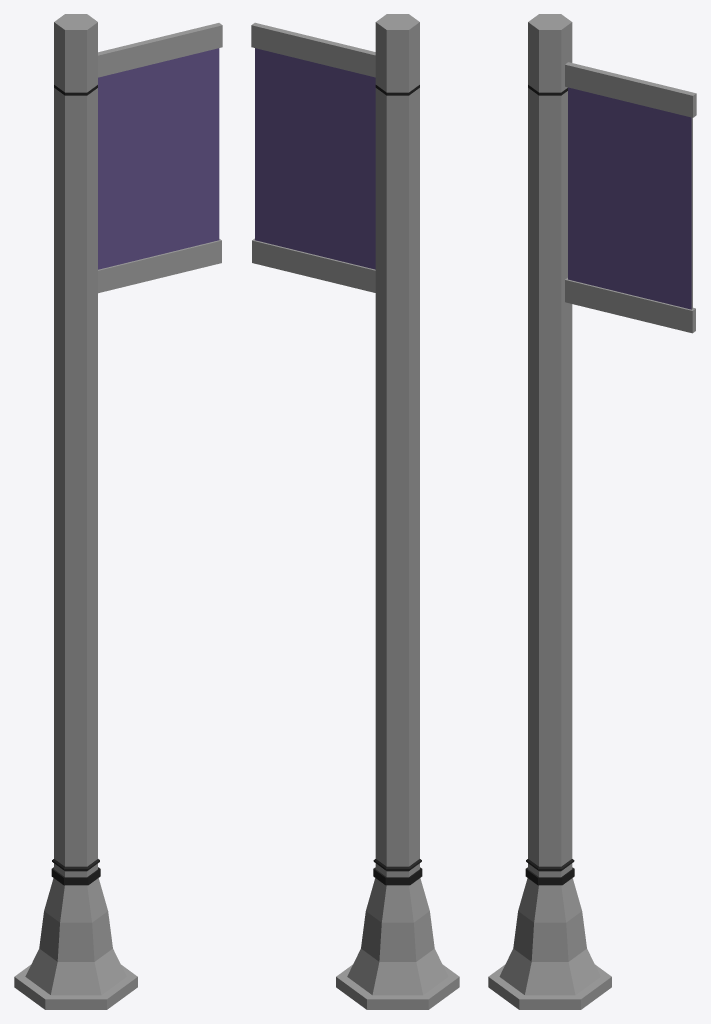
The model's file is lamp flag.fbx.
The picture shows the model from 3 angles, left to right: view 1: azimuth 30°, elevation 25°; view 2: azimuth 150°, elevation 25°; view 3: azimuth 330°, elevation 25°; orthographic projection.
Parts seen in each view (by area): view 1: Cylinder; view 2: Cylinder; view 3: Cylinder.
Boxes of the visible parts, x1,y1,x2,y2 form: Cylinder: (14, 14, 222, 1009); Cylinder: (251, 14, 459, 1009); Cylinder: (488, 14, 696, 1009).
Size of the model in its own units: 430 by 2078 by 241.
